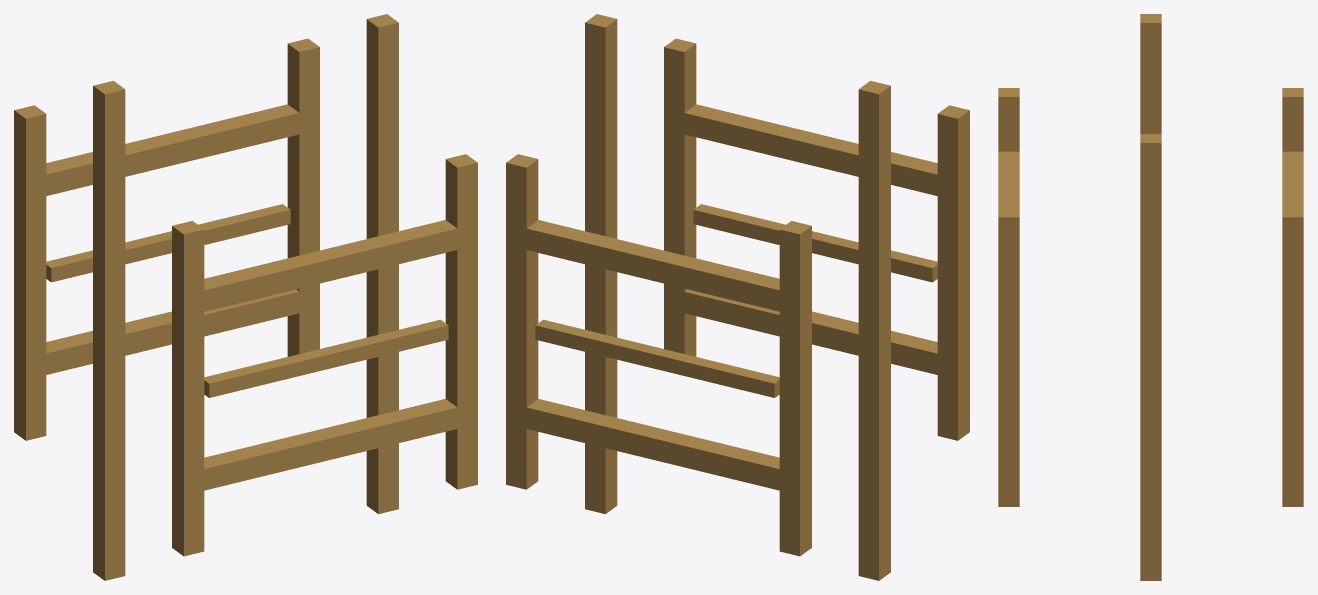
The model's file is construction.obj.
3 renders of one model, left to right at view 1: azimuth 30°, elevation 25°; view 2: azimuth 150°, elevation 25°; view 3: azimuth 270°, elevation 25°, orthographic. The views are drawn at different scales.
Bounding box in the file's own units: 0.43 × 0.68 × 0.43.
